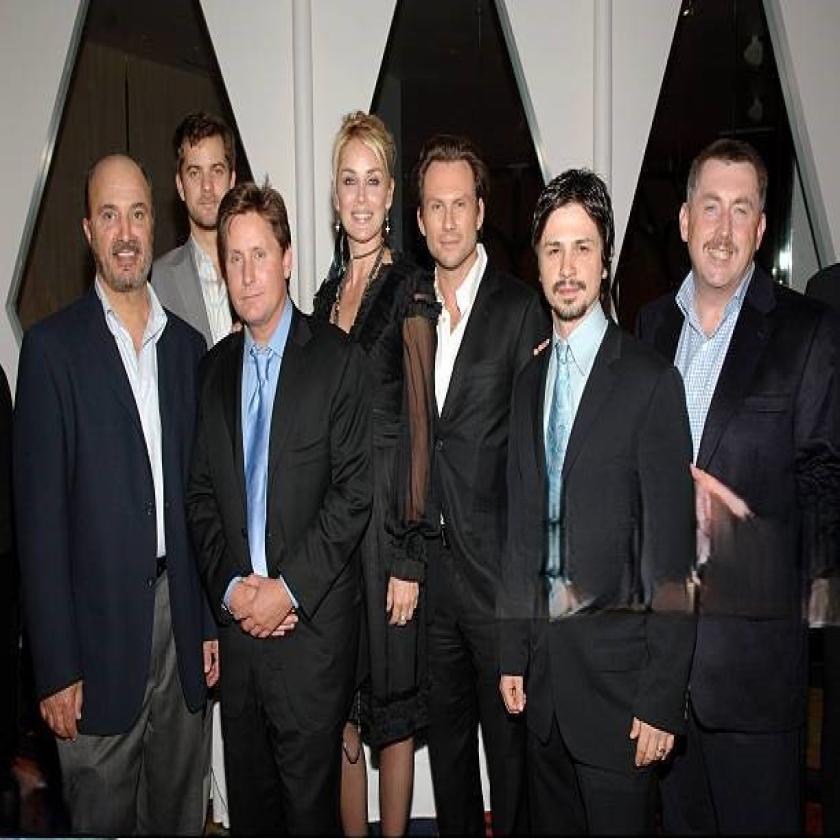Sin_casco: (662, 114, 784, 306), (526, 154, 622, 320), (74, 144, 160, 301), (211, 177, 301, 323), (404, 124, 491, 271), (325, 91, 399, 257), (172, 92, 236, 222)
